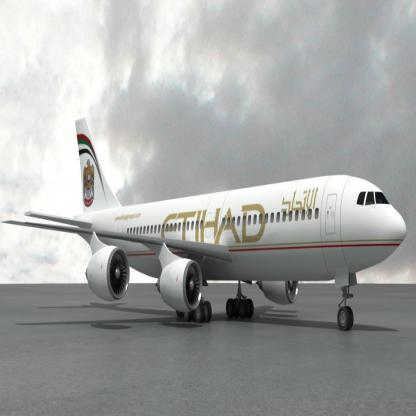CIV_Plane: (6, 112, 408, 334)
